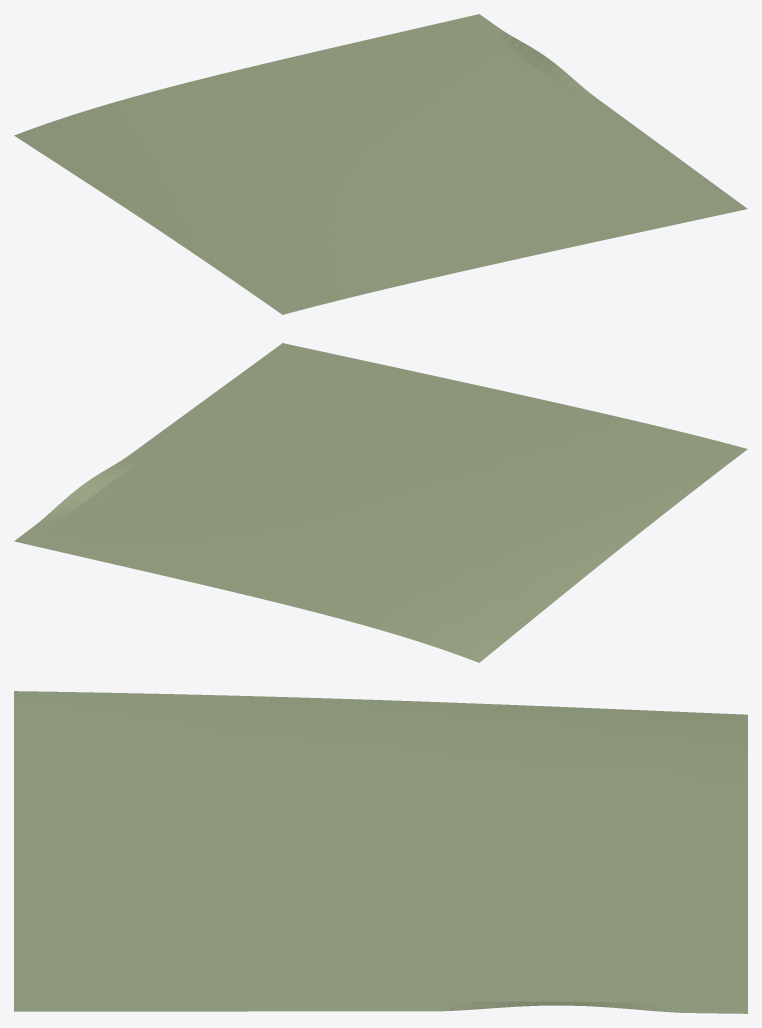
File: expanse-17-4.glb
3 views of the same model, one above another, from view 1: azimuth 30°, elevation 25°; view 2: azimuth 150°, elevation 25°; view 3: azimuth 270°, elevation 25° (orthographic). The views are drawn at different scales.
Visible parts, largest first — view 1: expanse-17-4; view 2: expanse-17-4; view 3: expanse-17-4.
Part boxes in pixels (x1,y1,x2,y2): expanse-17-4: (14, 14, 747, 314); expanse-17-4: (14, 343, 747, 662); expanse-17-4: (14, 691, 747, 1013).
Size of the model in its own units: 256 by 9.54 by 256.
